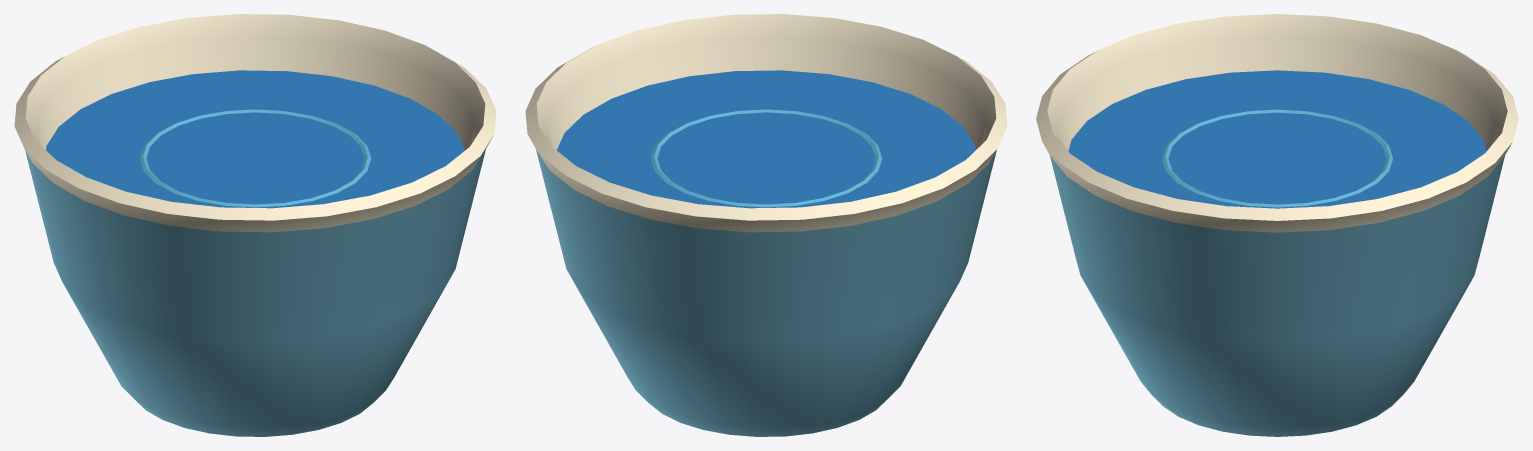
File: deep_bowl.fbx
3 views of the same model, side by side, from view 1: azimuth 30°, elevation 25°; view 2: azimuth 150°, elevation 25°; view 3: azimuth 270°, elevation 25° (orthographic).
Parts seen in each view (by area): view 1: Bowl, Water; view 2: Bowl, Water; view 3: Bowl, Water.
Part boxes in pixels (box(x1,y1,x2,y2)): Bowl: box(14, 14, 496, 436); Water: box(46, 70, 465, 208); Bowl: box(525, 14, 1007, 436); Water: box(556, 70, 975, 208); Bowl: box(1036, 14, 1518, 436); Water: box(1068, 70, 1486, 208).
Size of the model in its own units: 0.172 by 0.107 by 0.172.
1 material, 1 textured.
